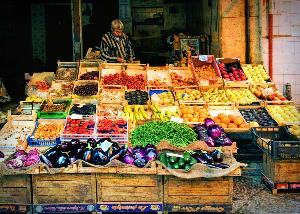apple: (268, 105, 300, 125), (222, 58, 244, 86), (258, 84, 286, 104), (244, 64, 272, 83), (226, 88, 258, 104)
banana: (152, 104, 180, 123), (125, 104, 152, 122)
eggplant: (46, 137, 120, 171), (194, 146, 238, 170)
pear: (200, 90, 231, 106), (176, 90, 206, 102), (150, 94, 174, 104)
strawberry: (65, 117, 97, 135), (96, 116, 126, 134)
zucchini: (157, 146, 195, 172)
